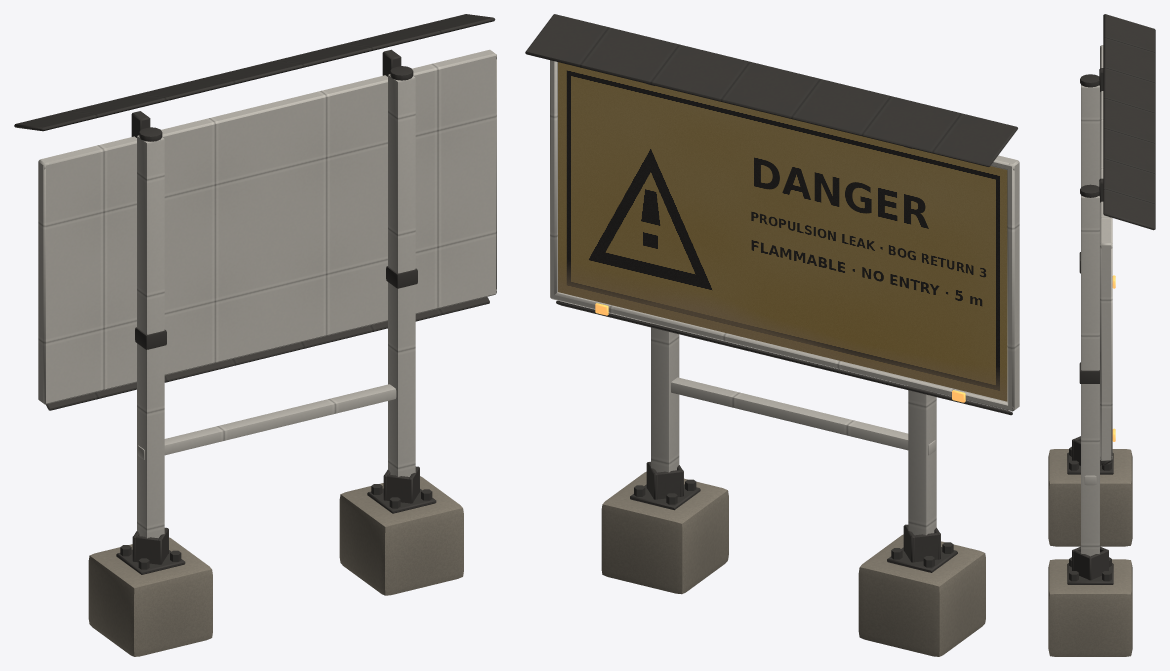
File: hazard_sign.glb
3 views of the same model, side by side, from view 1: azimuth 30°, elevation 25°; view 2: azimuth 150°, elevation 25°; view 3: azimuth 270°, elevation 25° (orthographic). The views are drawn at different scales.
Visible parts, largest first — view 1: body, footing, footing.001, leg, leg.001, visor, rail, stretcher, drip, stile, rail.001, stile.001 (+2 smaller); view 2: laminate, visor, footing.001, footing, stretcher, rail.001, leg, leg.001, stile, drip, stile.001; view 3: visor, footing.001, leg.001, footing, stile.001, leg, rail, rib.004, rib.005, plate.001, splice.001, plate (+2 smaller).
Part boxes in pixels (<box>): body: <box>49,60,492,398</box>; footing: <box>88,537,212,656</box>; footing.001: <box>339,476,463,595</box>; leg: <box>137,135,164,538</box>; leg.001: <box>388,74,415,476</box>; visor: <box>14,14,495,131</box>; rail: <box>39,50,496,169</box>; stretcher: <box>137,384,396,459</box>; drip: <box>46,297,489,410</box>; stile: <box>38,158,49,404</box>; rail.001: <box>45,289,496,404</box>; stile.001: <box>486,49,496,292</box>; laminate: <box>558,62,1007,401</box>; visor: <box>525,14,1017,166</box>; footing.001: <box>601,471,728,594</box>; footing: <box>858,534,985,656</box>; stretcher: <box>671,377,935,455</box>; rail.001: <box>550,292,1019,410</box>; leg: <box>908,390,936,535</box>; leg.001: <box>651,324,679,472</box>; stile: <box>1007,159,1019,411</box>; drip: <box>556,300,1012,415</box>; stile.001: <box>550,60,557,299</box>; visor: <box>1103,14,1155,230</box>; footing.001: <box>1048,559,1132,656</box>; leg.001: <box>1081,195,1099,556</box>; footing: <box>1048,449,1132,546</box>; stile.001: <box>1100,241,1112,460</box>; leg: <box>1081,85,1099,187</box>; rail: <box>1100,46,1112,248</box>; rib.004: <box>1088,549,1107,580</box>; rib.005: <box>1072,549,1092,580</box>; plate.001: <box>1067,563,1113,584</box>; splice.001: <box>1079,362,1099,383</box>; plate: <box>1067,452,1113,474</box>.
Bounding box in the file's own units: 2.24 × 2.47 × 0.509.
Materials: 5 (4 with a texture image).
